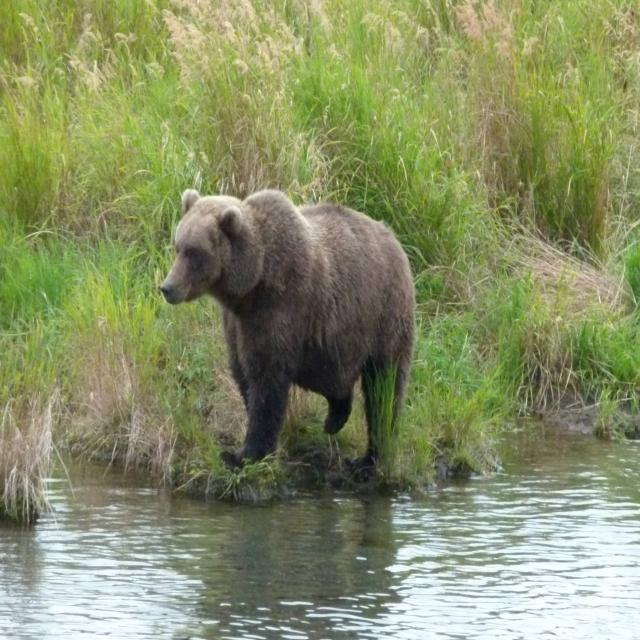bear face: (159, 189, 417, 461)
